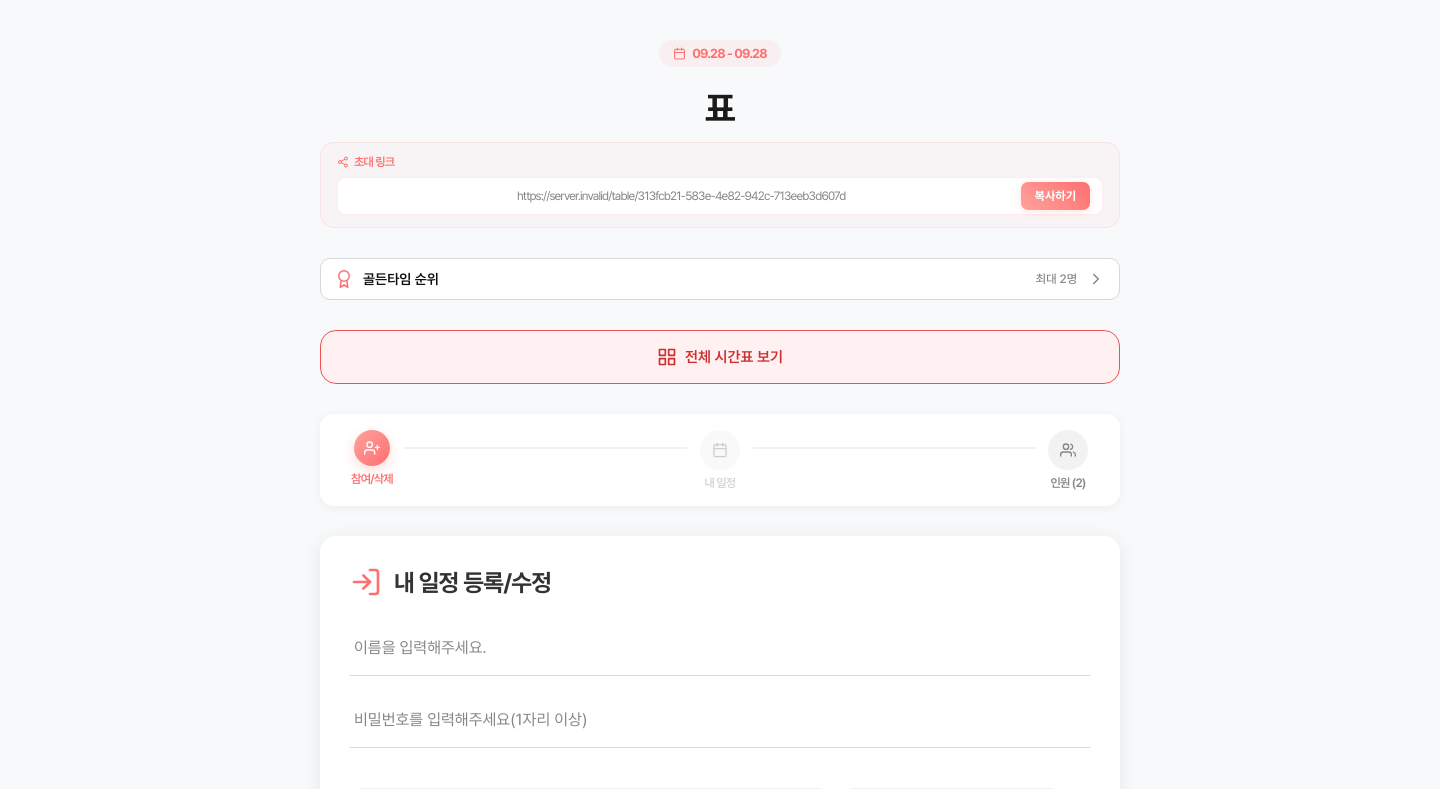
휴대폰 전체 시간표 열기: 골든타임 순위 안 이름으로 열 때도 센다
Expected: the button "전체 시간표 보기" is enabled, [320, 330, 1120, 384]
Click the button "골든타임 순위 최대 2명": click(401, 279) [320, 258, 1120, 300]
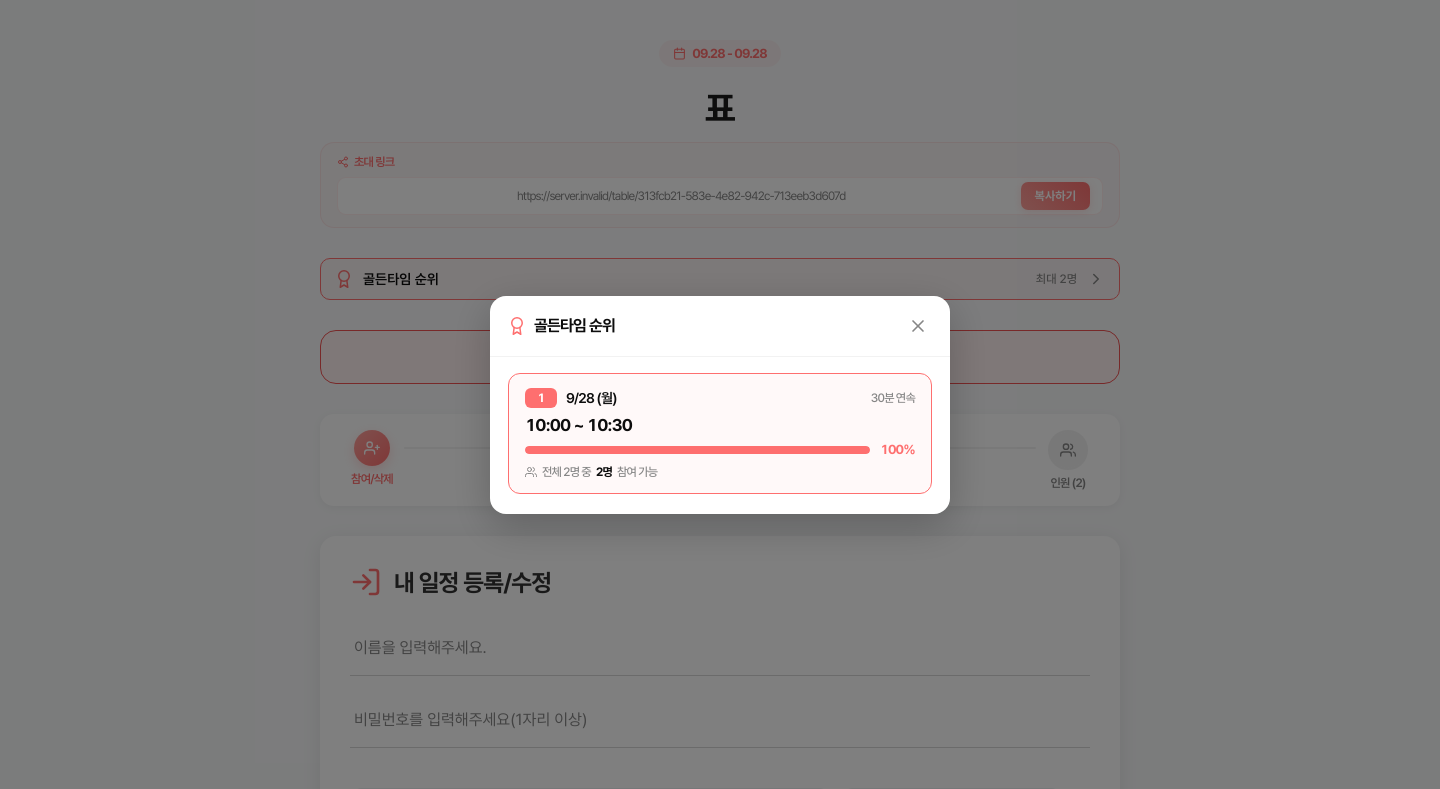
Click the text "10:00 ~ 10:30": click(579, 425) [525, 415, 632, 435]
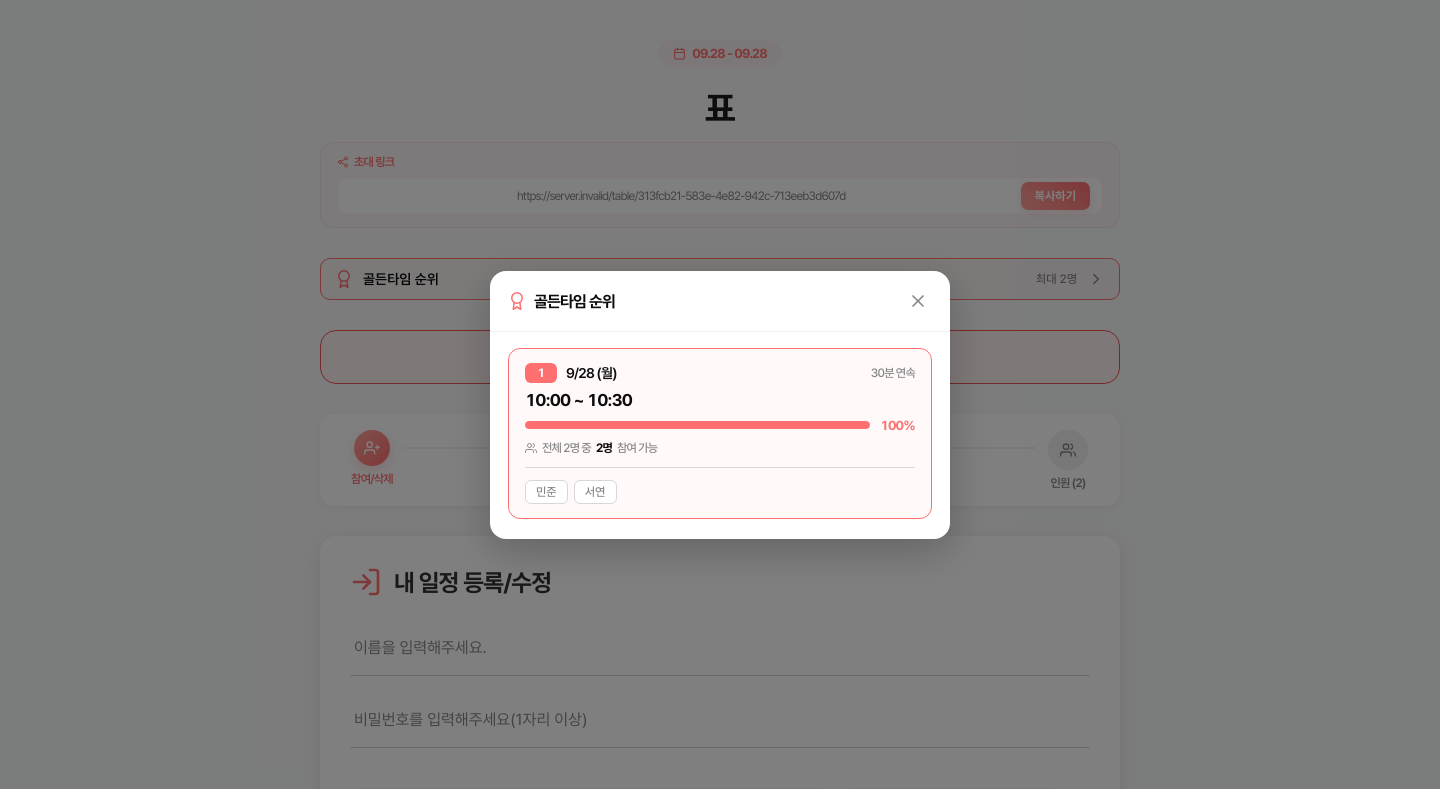
Click the button "민준": click(546, 492) [525, 480, 568, 504]
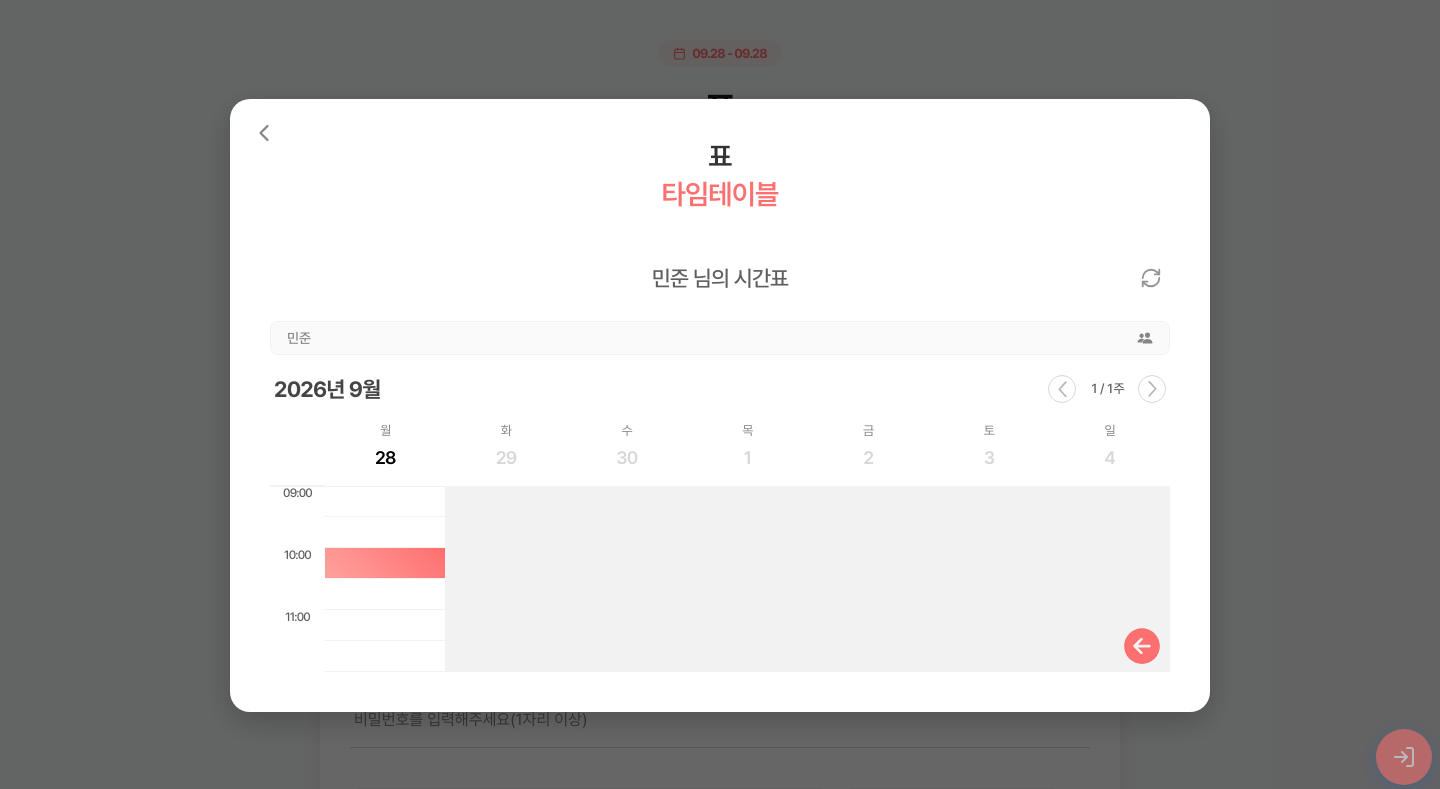
Expected: the button "닫기" is gone
Expected: the button named "Close modal" is shown, [242, 110, 286, 154]
